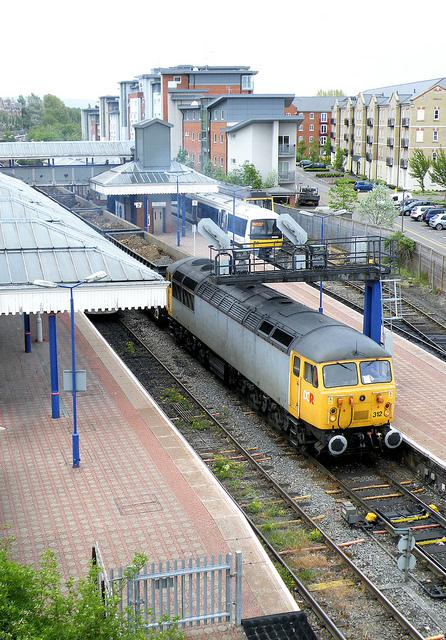Train: (35, 187, 405, 459), (172, 193, 285, 260)
